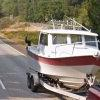Boat: (17, 22, 100, 99)
